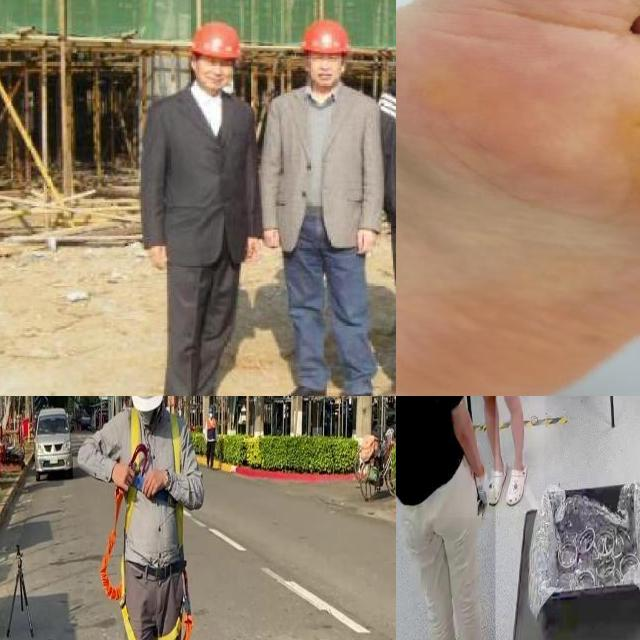Barefoots: (396, 0, 640, 396)
Harness: (100, 488, 139, 640), (129, 411, 182, 489), (156, 605, 194, 640)
hand_glove: (472, 470, 493, 530)
hand_noglove: (140, 238, 174, 270), (351, 224, 382, 259), (242, 232, 265, 259), (261, 225, 281, 252)
head_helmet: (186, 18, 245, 62), (298, 15, 352, 60)
person: (252, 13, 385, 396), (140, 17, 261, 396), (396, 396, 496, 640), (433, 396, 544, 517), (368, 9, 396, 396)
shoes: (280, 373, 335, 396), (344, 377, 382, 396), (370, 373, 396, 396), (191, 385, 241, 396)
